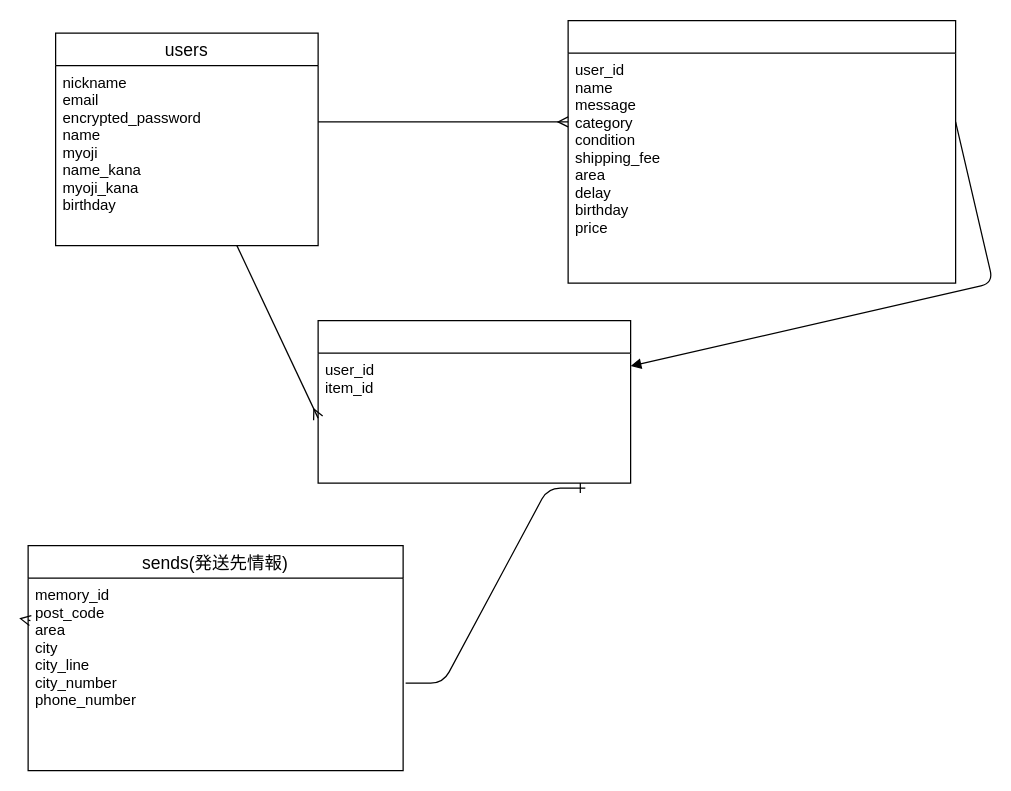
The diagram is 1011 pixels wide and 791 high, and some of its shapes have lost their labels. The shapes that lost their labels are listed below. From the top down, each one's box as (x1, y1, x2, y2) in pixels, then its label:
(567, 19, 956, 283): items(商品情報)
(317, 319, 631, 483): purchases(購入記録)
